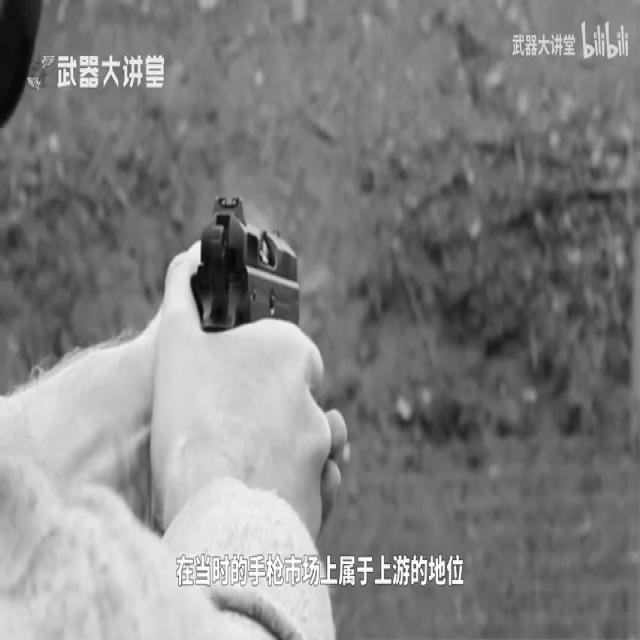Hand-Gun: (194, 186, 300, 347)
